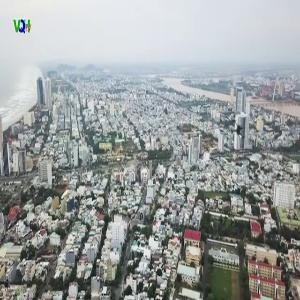drone: (216, 110, 262, 156)
